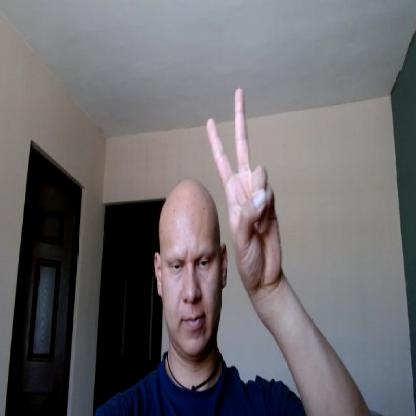V: (207, 86, 283, 281)
